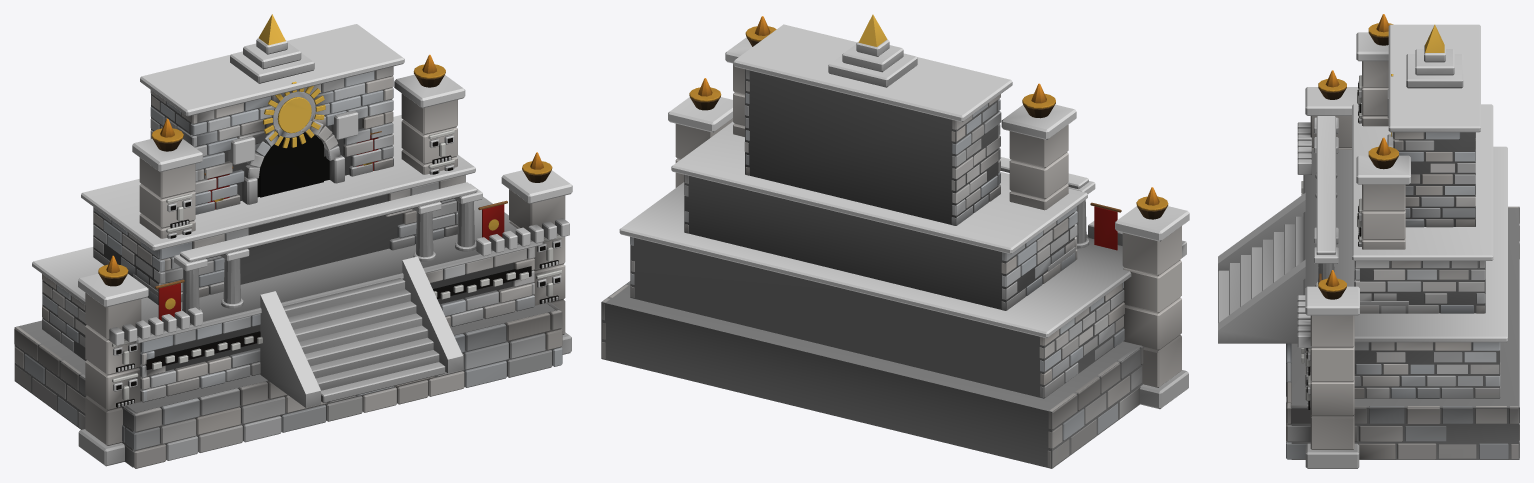
File: HeroSanctuary.fbx
The picture shows the model from 3 angles, left to right: view 1: azimuth 30°, elevation 25°; view 2: azimuth 150°, elevation 25°; view 3: azimuth 270°, elevation 25°; orthographic projection. The views are drawn at different scales.
Parts seen in each view (by area): view 1: HeroSanctuary__Limestone, HeroSanctuary__Paint, HeroSanctuary__Ember; view 2: HeroSanctuary__Limestone, HeroSanctuary__Paint, HeroSanctuary__Ember; view 3: HeroSanctuary__Limestone, HeroSanctuary__Paint, HeroSanctuary__Ember.
Boxes of the visible parts, x1,y1,x2,y2 form: HeroSanctuary__Limestone: [14, 24, 572, 468]; HeroSanctuary__Paint: [98, 14, 560, 407]; HeroSanctuary__Ember: [106, 54, 543, 273]; HeroSanctuary__Limestone: [601, 24, 1189, 468]; HeroSanctuary__Paint: [689, 14, 1168, 250]; HeroSanctuary__Ember: [698, 16, 1159, 205]; HeroSanctuary__Limestone: [1218, 24, 1519, 468]; HeroSanctuary__Paint: [1305, 23, 1444, 409]; HeroSanctuary__Ember: [1325, 14, 1390, 286].
Bounding box in the file's own units: 10.72 × 7.6 × 6.19.
